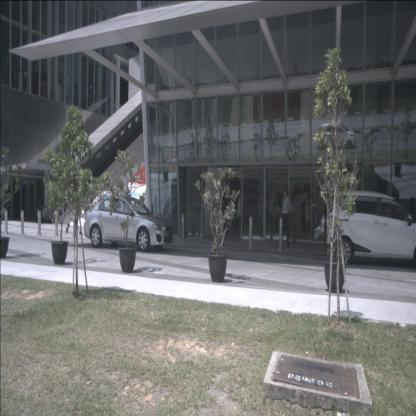human-pedestrian-adult: (278, 188, 292, 248), (303, 198, 312, 240)
vehicle-car: (324, 190, 415, 270), (84, 195, 174, 252)
